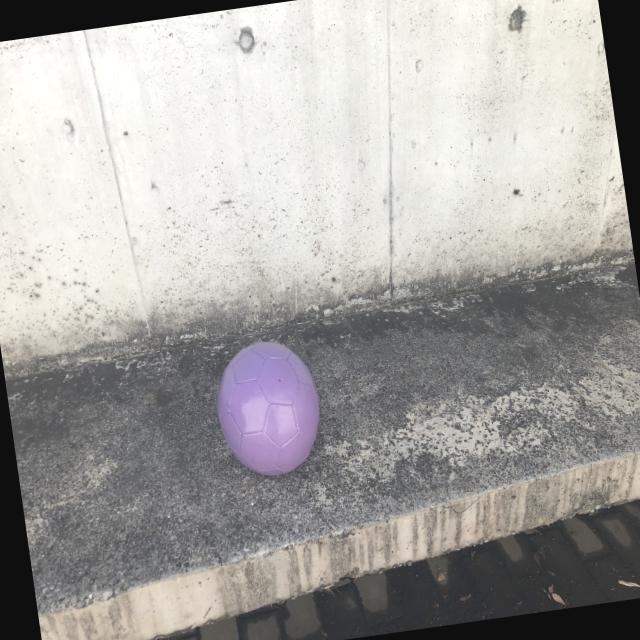purple_ball: (208, 339, 326, 484)
